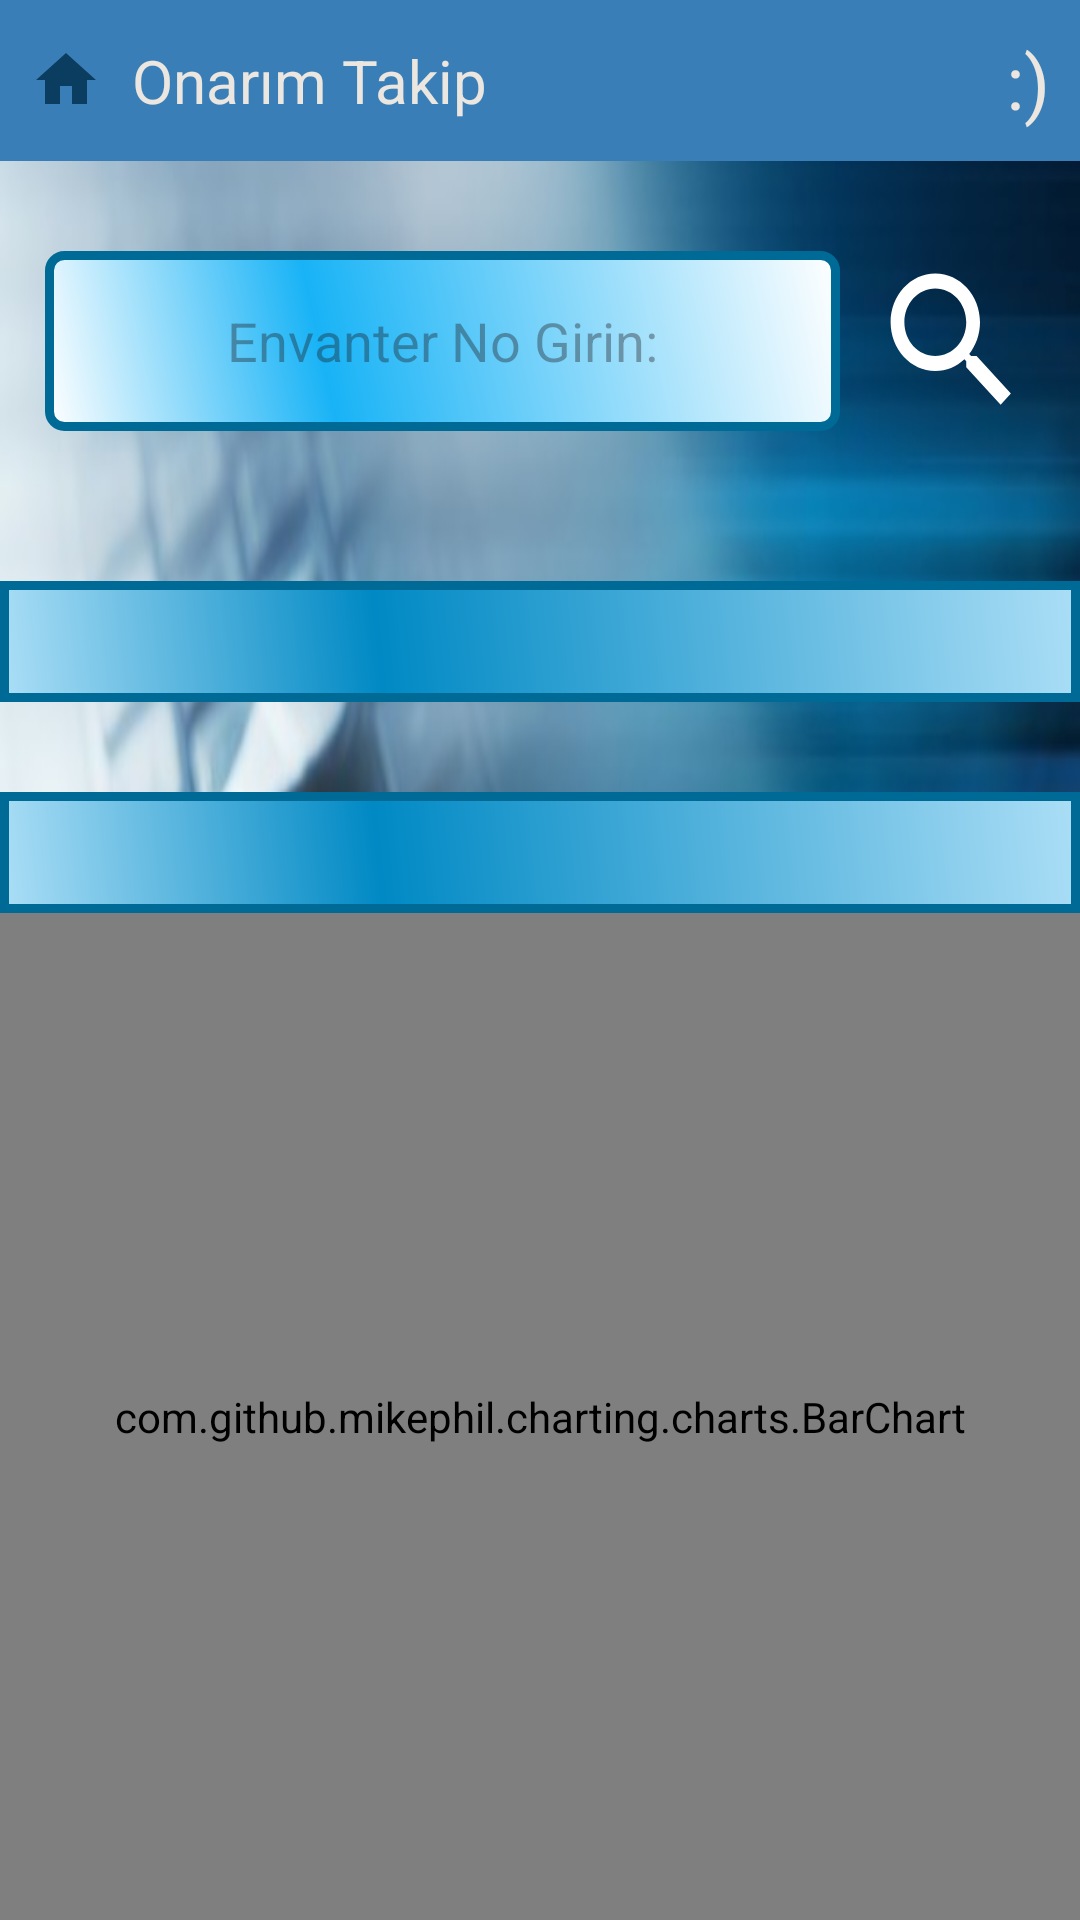

Icon click points for this 1080 × 1920 phone screenshot, format [x,y]:
home: [66,78]
search: [952,341]
